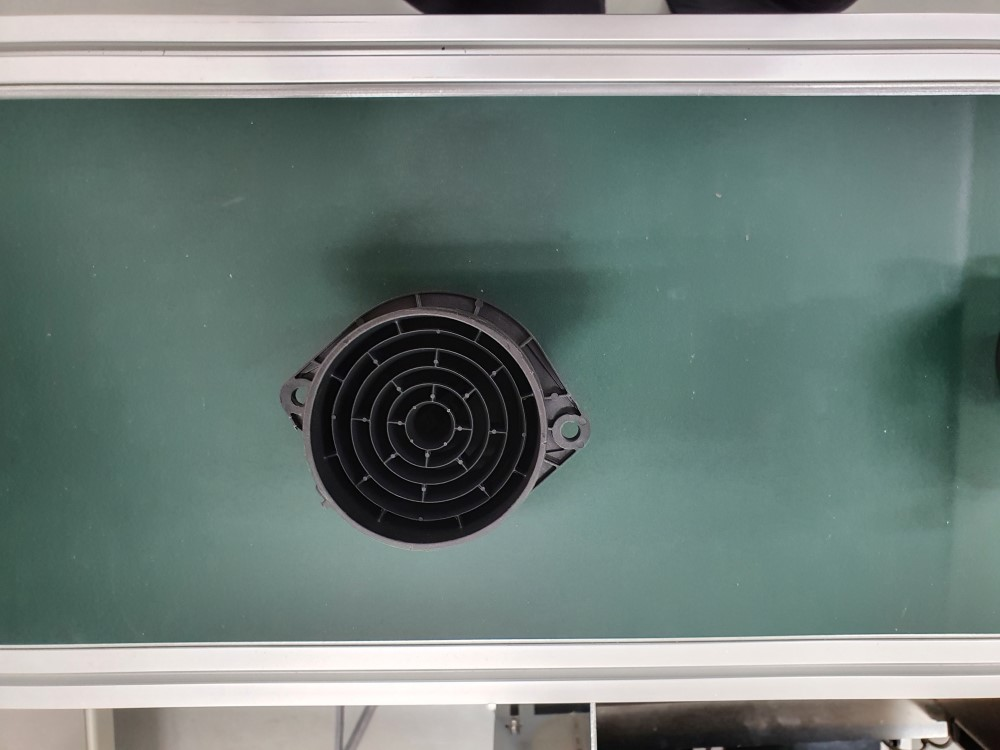nok: (279, 291, 590, 550)
